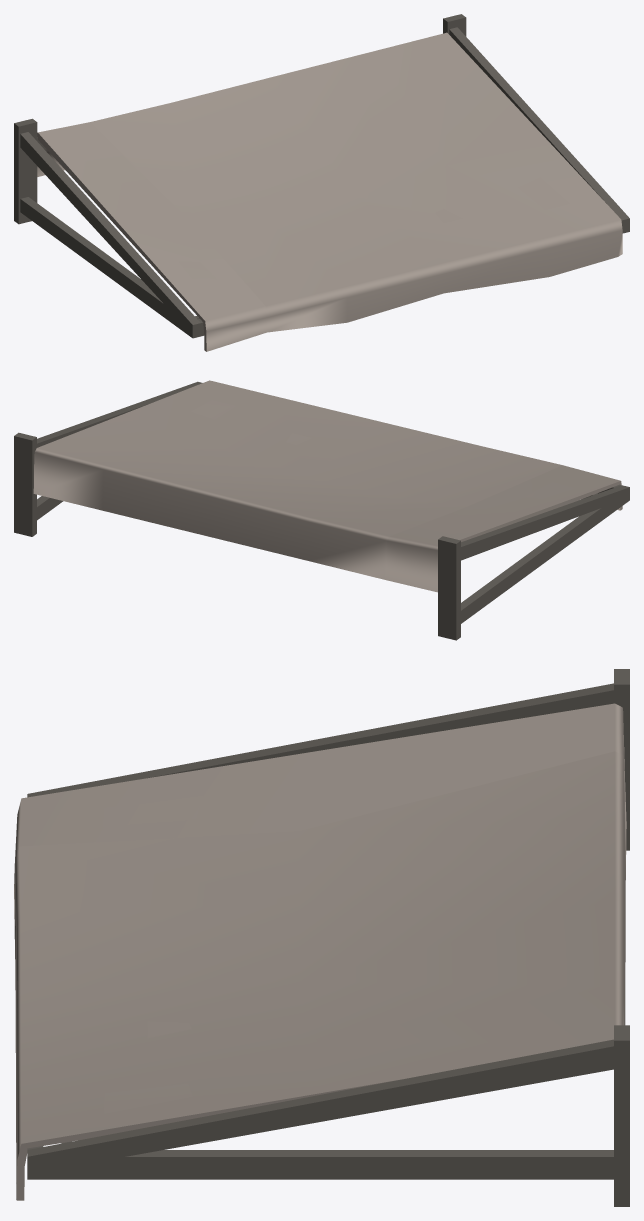
Rendered from SM_Bld_Shops_ClothCover_Large_01.fbx.
3 views of the same model, one above another, from view 1: azimuth 30°, elevation 25°; view 2: azimuth 150°, elevation 25°; view 3: azimuth 270°, elevation 25° (orthographic). The views are drawn at different scales.
Visible parts, largest first — view 1: SM_Bld_Shops_ClothCover_Large_01; view 2: SM_Bld_Shops_ClothCover_Large_01; view 3: SM_Bld_Shops_ClothCover_Large_01.
Part boxes in pixels (left/top/right/bottom): SM_Bld_Shops_ClothCover_Large_01: left=14, top=14, right=629, bottom=351; SM_Bld_Shops_ClothCover_Large_01: left=14, top=380, right=629, bottom=640; SM_Bld_Shops_ClothCover_Large_01: left=14, top=669, right=629, bottom=1206.
Size of the model in its own units: 413 by 95.66 by 289.
